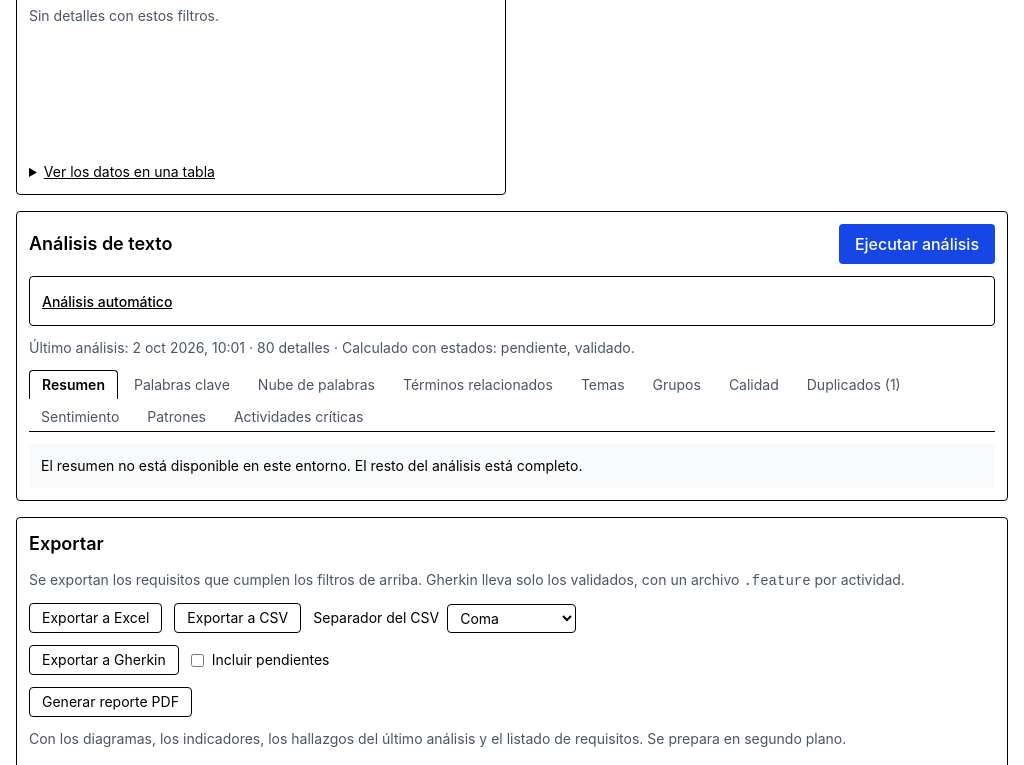
Test case: resultados › nube y red: cada una con su tabla alternativa
The width and height of the screenshot is (1024, 765).
(page scrolled)
Click the tab "Nube de palabras" at [316, 384], box [246, 370, 387, 399]
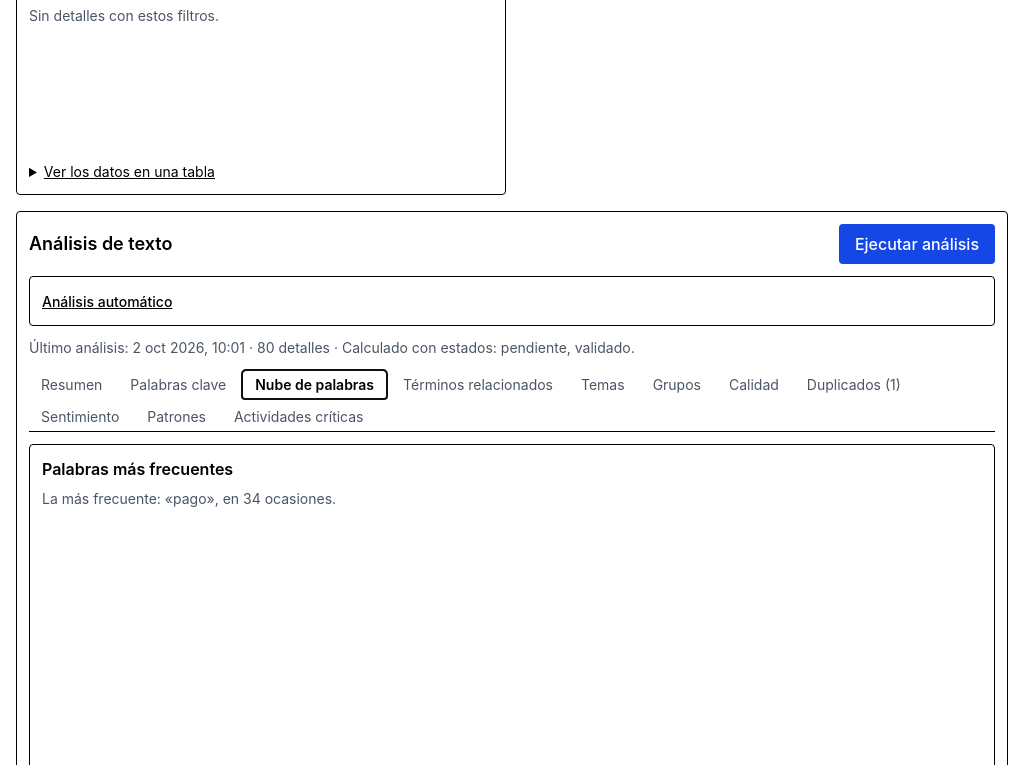
Now the text "La más frecuente: «pago», en 34 ocasiones." is shown, box [42, 490, 336, 507]
Click the tab "Términos relacionados" at [478, 384], box [391, 370, 565, 399]
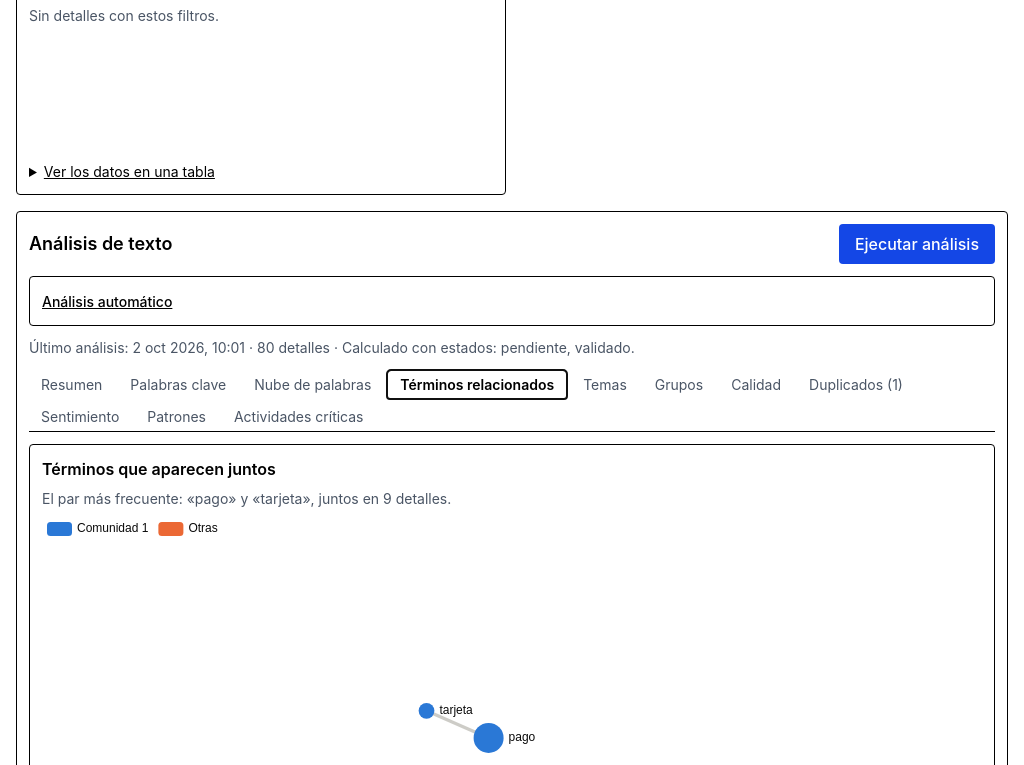
Now the text "El par más frecuente: «pago» y «tarjeta», juntos en 9 detalles." is shown, box [42, 490, 451, 507]
